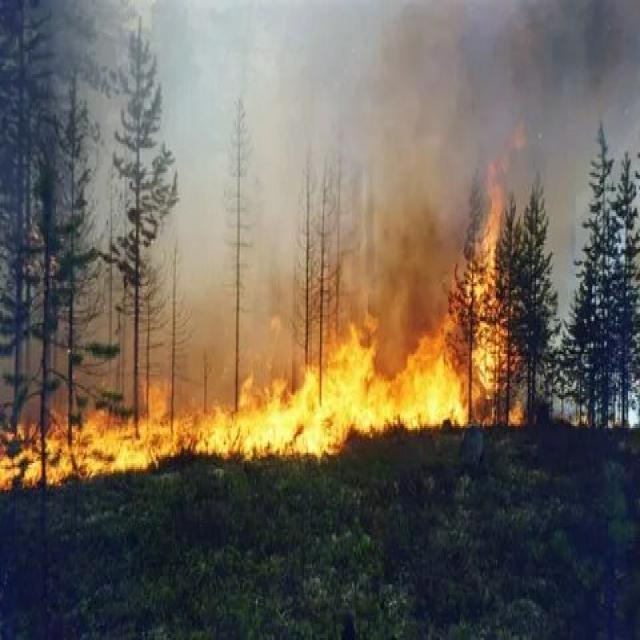Fire: (332, 93, 532, 459), (0, 356, 522, 489)
